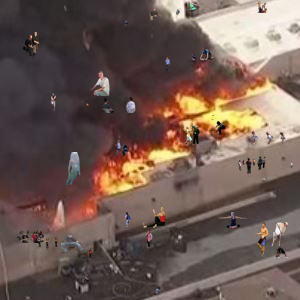Human: (60, 233, 86, 254), (102, 97, 136, 113), (149, 4, 181, 21), (187, 48, 215, 67), (101, 137, 129, 156), (143, 206, 167, 228), (65, 152, 81, 185), (89, 71, 110, 96), (215, 121, 250, 136), (22, 32, 41, 59), (254, 222, 269, 256), (218, 212, 248, 229), (238, 156, 266, 174), (251, 131, 286, 145), (271, 221, 289, 246), (132, 229, 154, 247), (17, 230, 47, 243), (185, 125, 203, 146), (37, 236, 58, 250), (188, 1, 198, 17), (275, 247, 288, 259), (154, 287, 171, 295), (257, 1, 267, 13), (124, 212, 131, 228), (164, 56, 170, 73), (51, 93, 56, 111), (81, 275, 89, 284), (90, 268, 99, 273), (89, 248, 92, 258), (262, 175, 266, 182), (124, 288, 127, 296), (125, 20, 129, 26), (151, 27, 153, 38), (211, 115, 214, 122), (64, 4, 67, 11), (289, 163, 293, 168), (86, 103, 89, 109)
